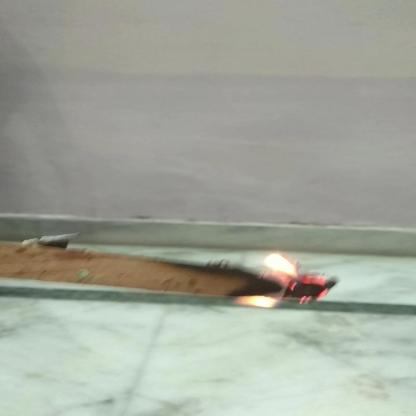fire: (229, 251, 337, 309)
